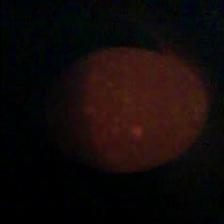fertile: (44, 45, 208, 173)
